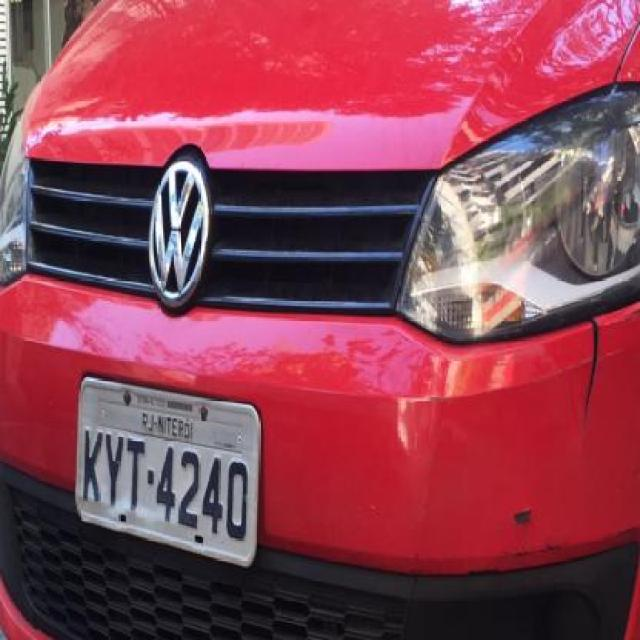old_plate: (68, 365, 268, 572)
